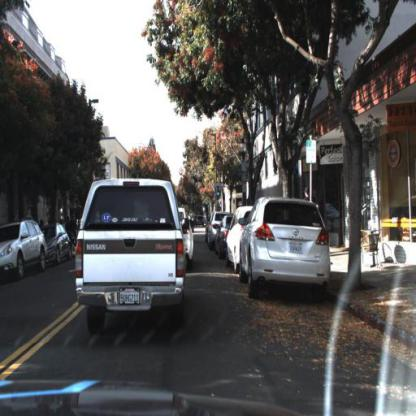car: (66, 172, 199, 335), (238, 195, 335, 305), (1, 217, 52, 285), (223, 202, 254, 279), (172, 195, 201, 272), (42, 215, 73, 262), (45, 221, 71, 264), (214, 215, 230, 264)
pedestrian: (303, 180, 321, 211), (303, 183, 315, 206), (69, 211, 79, 236)
trafficLight-Green: (215, 182, 223, 200)
